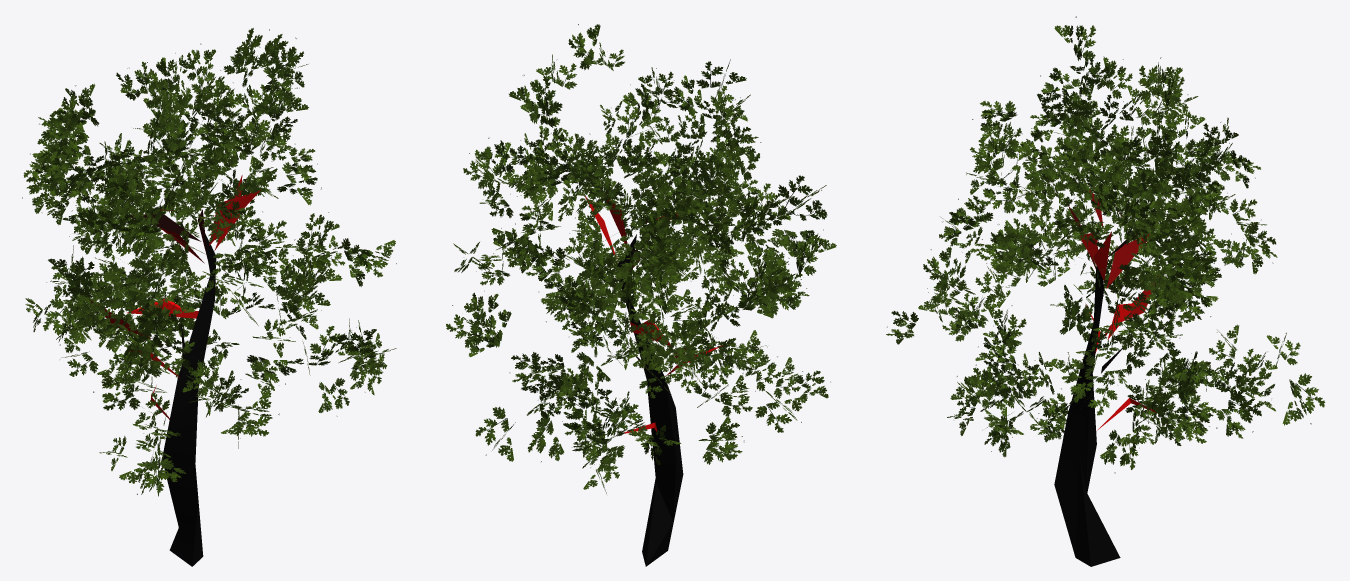
File: oak5 lod3.FBX
3 renders of one model, left to right at view 1: azimuth 30°, elevation 25°; view 2: azimuth 150°, elevation 25°; view 3: azimuth 270°, elevation 25°, orthographic. The views are drawn at different scales.
Parts seen in each view (by area): view 1: oak 5_LOD3; view 2: oak 5_LOD3; view 3: oak 5_LOD3.
Part boxes in pixels (bbox=[...]): oak 5_LOD3: bbox=[22, 28, 396, 566]; oak 5_LOD3: bbox=[446, 24, 836, 566]; oak 5_LOD3: bbox=[886, 16, 1325, 566].
Size of the model in its own units: 101466 by 135336 by 108243.
